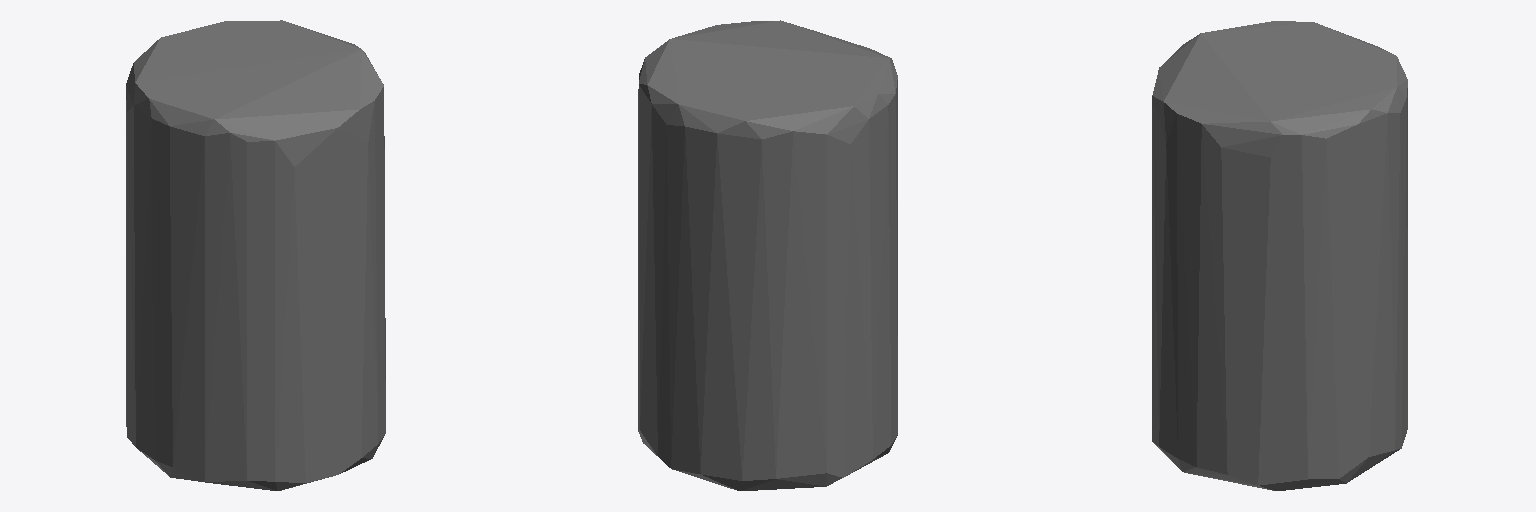
robot.urdf — pitcher_001:
<?xml version="1.0" ?>
<robot name="pitcher_001">
  <material name="color">
    <color rgba=".5 .5 .5 1"/>
  </material>

  <link name="base_link">
    <contact>
      <lateral_friction value="1.0"/>
      <rolling_friction value="0.001"/>
      <spinning_friction value="0.001"/>
      <inertia_scaling value="1.0"/>
    </contact>
    <inertial>
      <origin rpy="0 0 0" xyz="-0.00576994 0.000128843 0.00122189"/>
       <mass value="0.1"/>
       <inertia ixx="1" ixy="0" ixz="0" iyy="1" iyz="0" izz="1"/>
    </inertial>

    <visual>
      <origin rpy="0 0 0" xyz="0 0 0"/>
      <geometry>
        <mesh filename="pitcher_001_vhacd_0_of_1.obj" scale="1 1 1"/>
      </geometry>
      <material name="color"/>
    </visual>

    <collision>
      <origin rpy="0 0 0" xyz="0 0 0"/>
      <geometry>
        <mesh filename="pitcher_001_vhacd_0_of_1.obj" scale="1 1 1"/>
      </geometry>
    </collision>

  </link>
</robot>

--- Facts derived from the render (not from the file) ---
Views: 3 orthographic renders of the robot side by side, from view 1: azimuth 30°, elevation 25°; view 2: azimuth 150°, elevation 25°; view 3: azimuth 270°, elevation 25°.
Model pitcher_001 with 1 links and 0 joints (none), rooted at base_link, posed every joint at zero.
Visible links, largest first — view 1: base_link; view 2: base_link; view 3: base_link.
Link boxes in pixels (<box>): base_link: <box>126,20,385,490</box>; base_link: <box>638,20,897,490</box>; base_link: <box>1152,21,1407,490</box>.
Size in the robot's own frame: 0.1238 by 0.1242 by 0.1962 metres.
1 mesh visuals loaded from 1 distinct referenced files (1 OBJ).